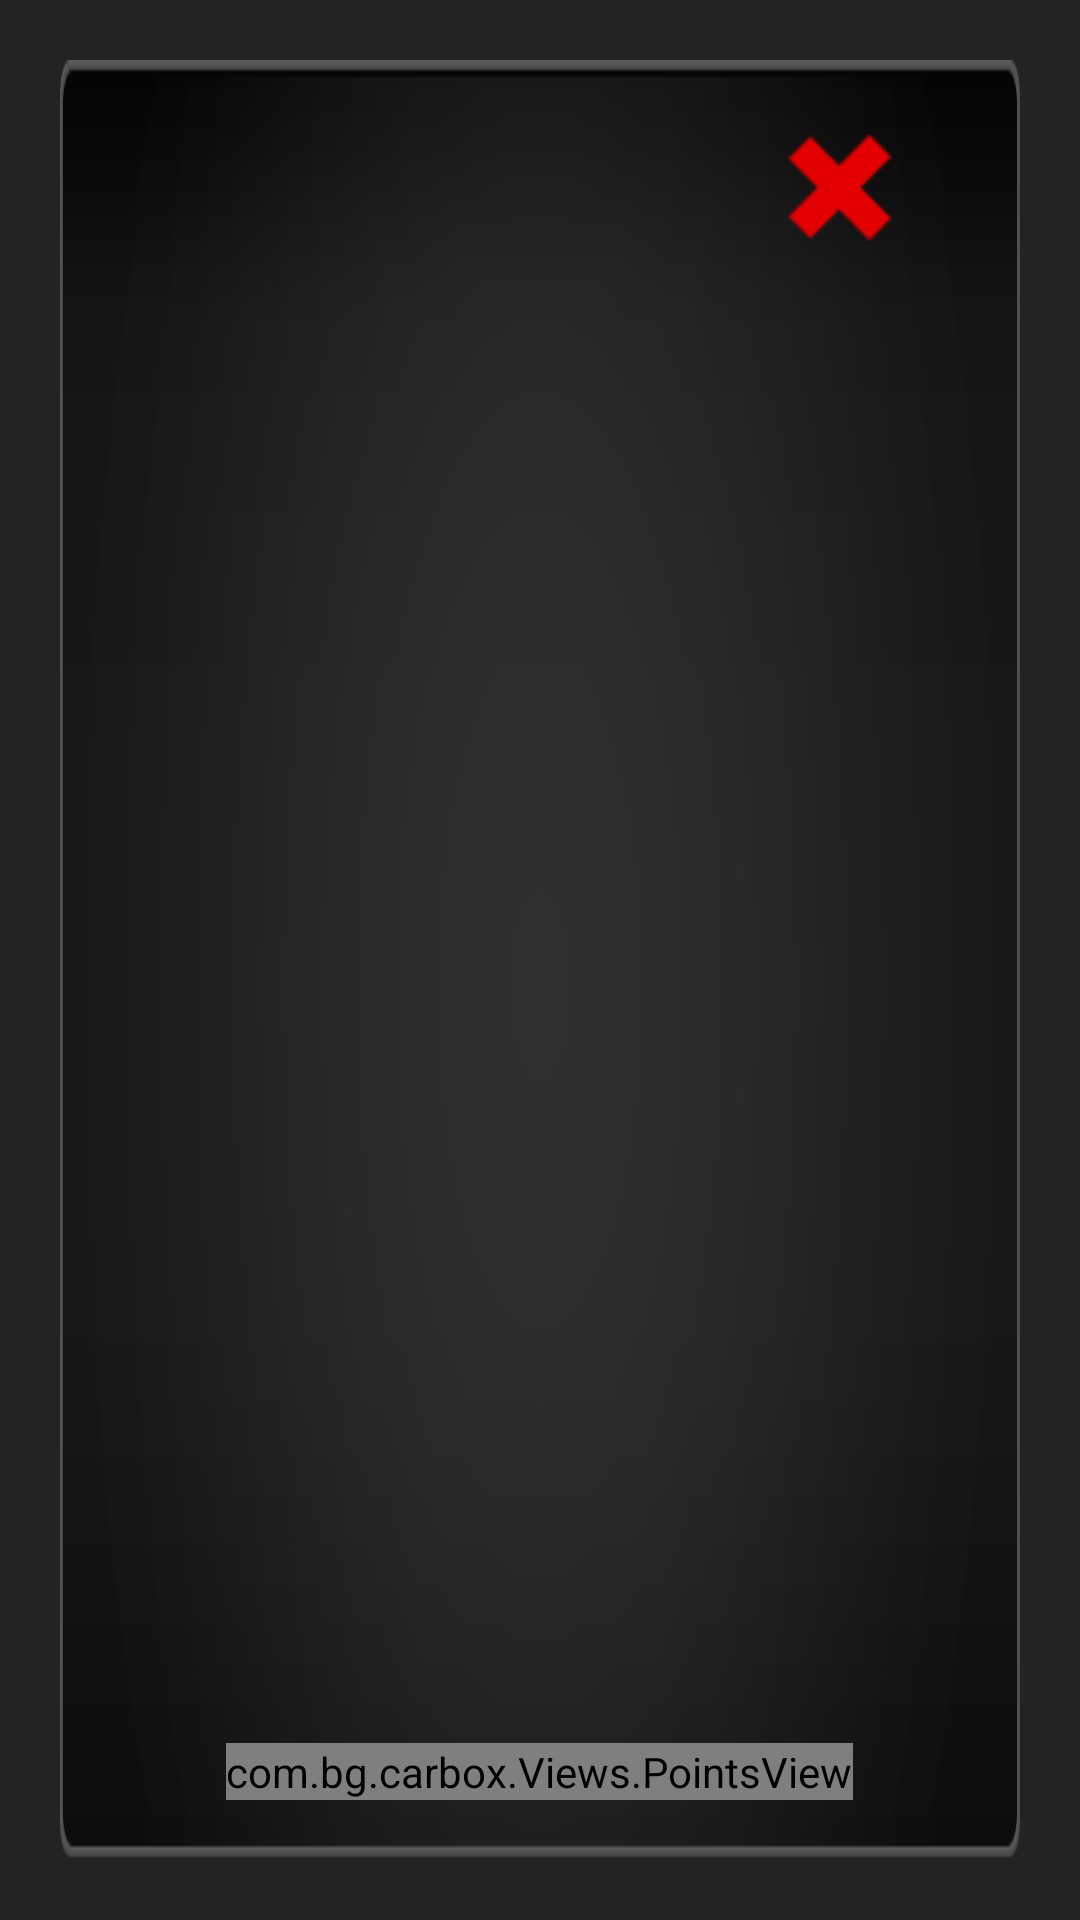

Where icons sit on this 1080x1920 app screen, as (x1, y1, x2, y2):
close: (788, 134, 892, 241)
